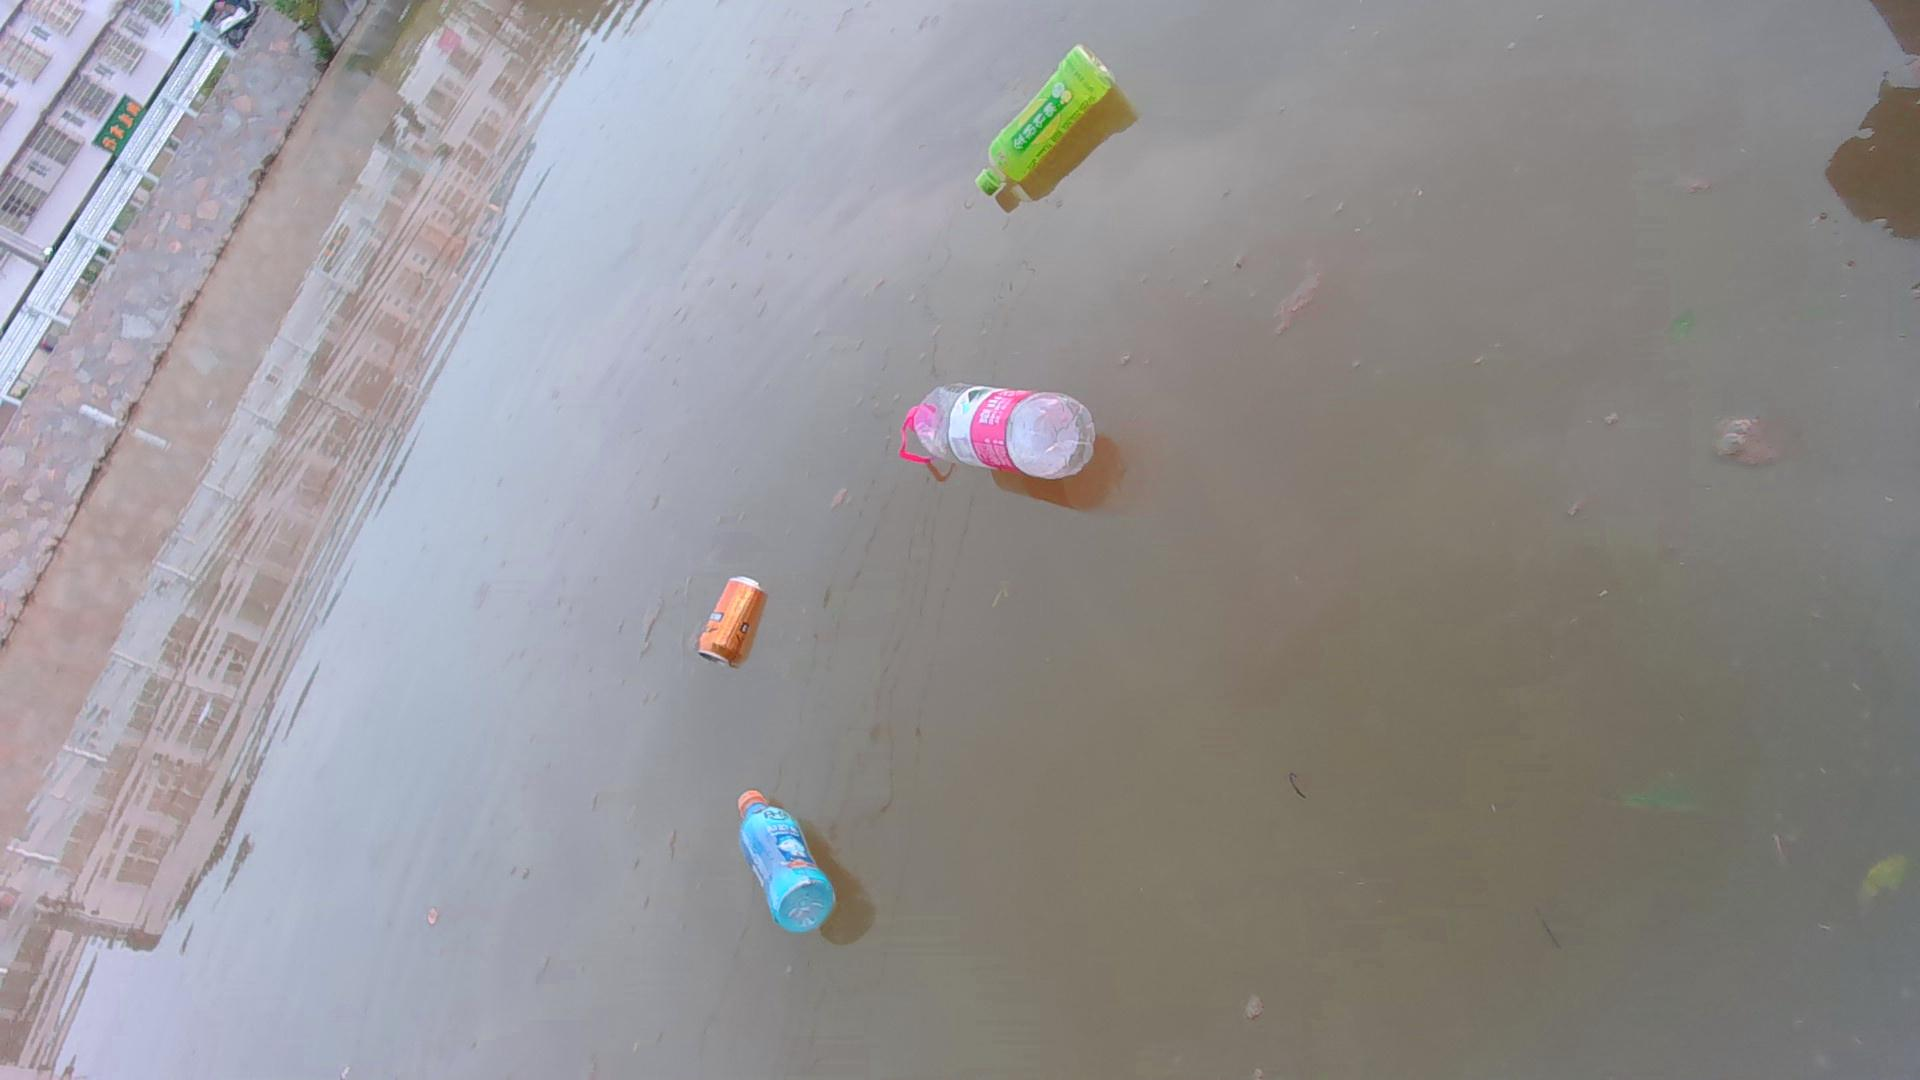Metal: (684, 571, 773, 687)
Plastic: (963, 32, 1129, 204), (876, 382, 1106, 484), (727, 782, 839, 948)
